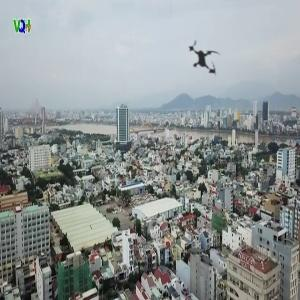drone: (167, 23, 241, 97)
